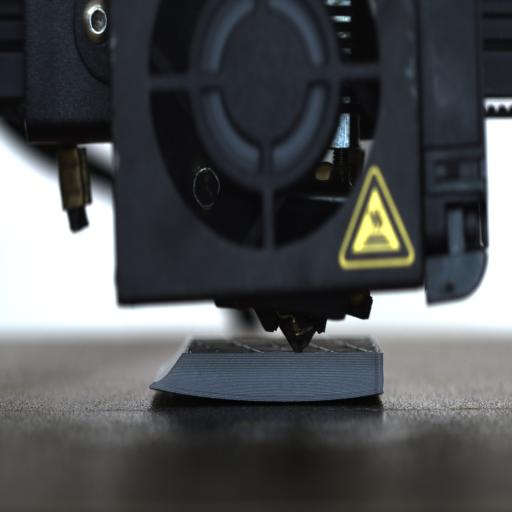warp: (143, 374, 217, 404), (338, 378, 389, 410)
